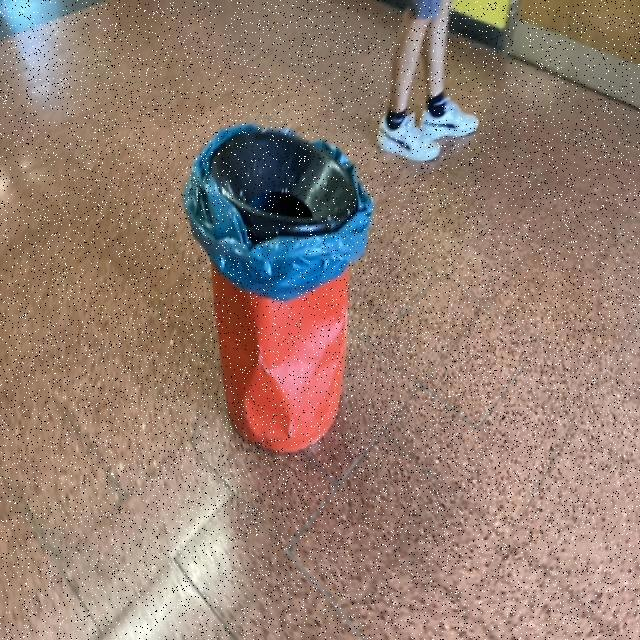garbage container: (166, 108, 388, 479)
